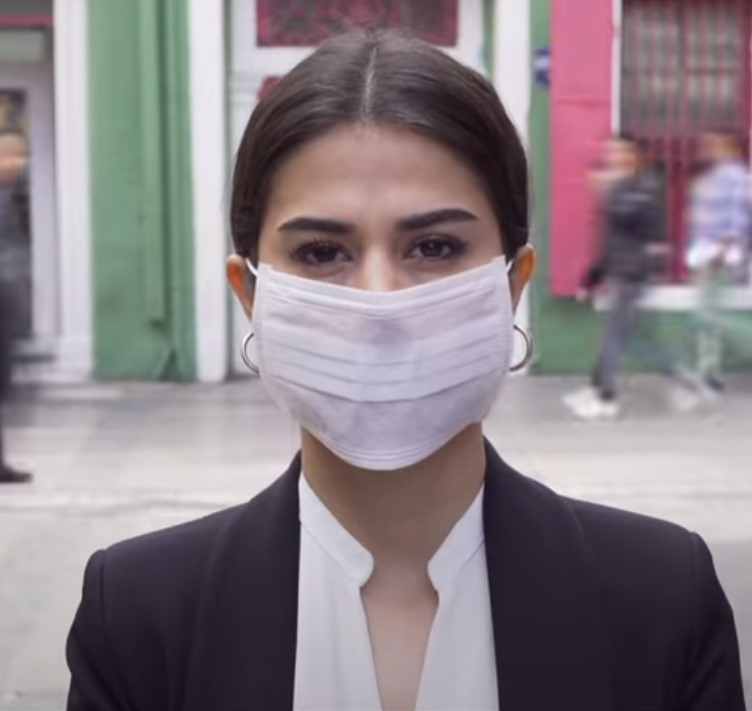face_with_mask: (221, 61, 540, 476)
